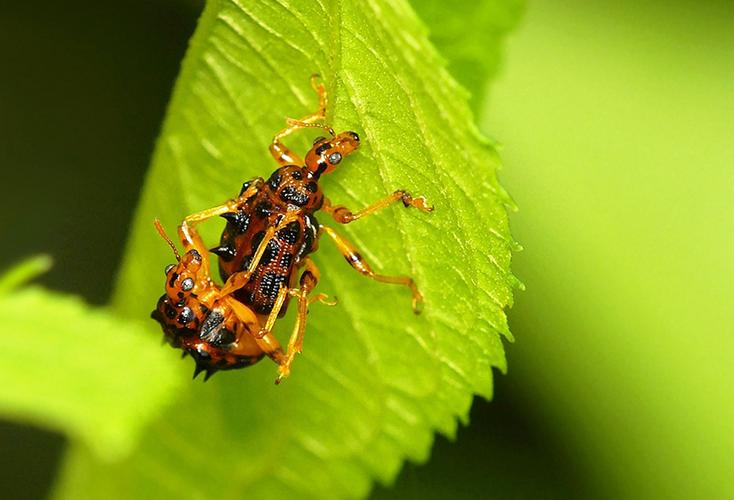Curculionidae: (208, 73, 436, 353), (151, 178, 338, 385)
